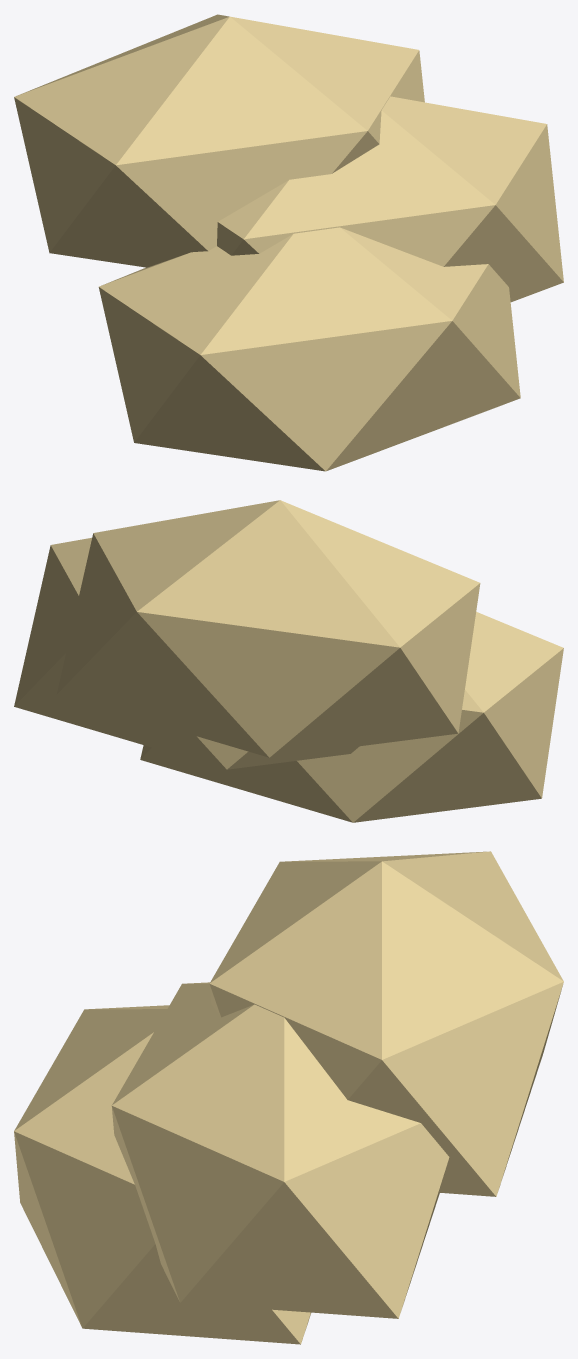
File: item_068_millet_seed_m.glb
3 renders of one model, top to bottom at view 1: azimuth 30°, elevation 25°; view 2: azimuth 150°, elevation 25°; view 3: azimuth 270°, elevation 25°, orthographic. The views are drawn at different scales.
Visible parts, largest first — view 1: item_068_millet_seed_m; view 2: item_068_millet_seed_m; view 3: item_068_millet_seed_m.
Part boxes in pixels (left/top/right/bottom): item_068_millet_seed_m: left=14, top=14, right=563, bottom=471; item_068_millet_seed_m: left=14, top=500, right=563, bottom=822; item_068_millet_seed_m: left=14, top=851, right=563, bottom=1344.
Size of the model in its own units: 0.3728 by 0.2975 by 0.3376.
